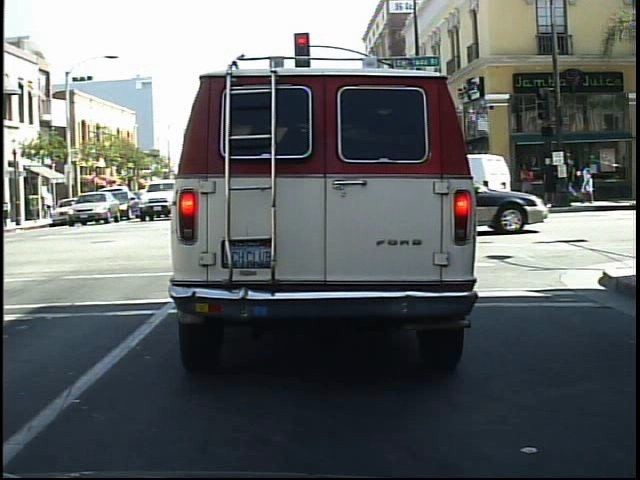person: (537, 154, 562, 211), (515, 157, 539, 209), (581, 157, 603, 208), (567, 149, 583, 210)
